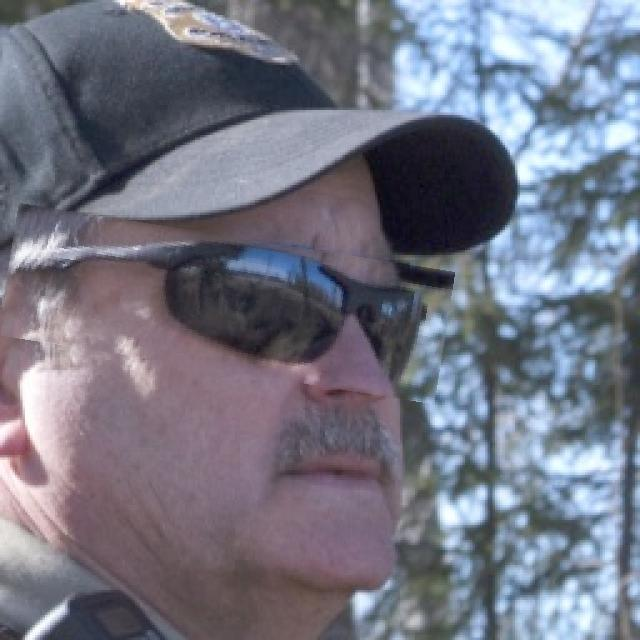glasses: (1, 220, 451, 388)
